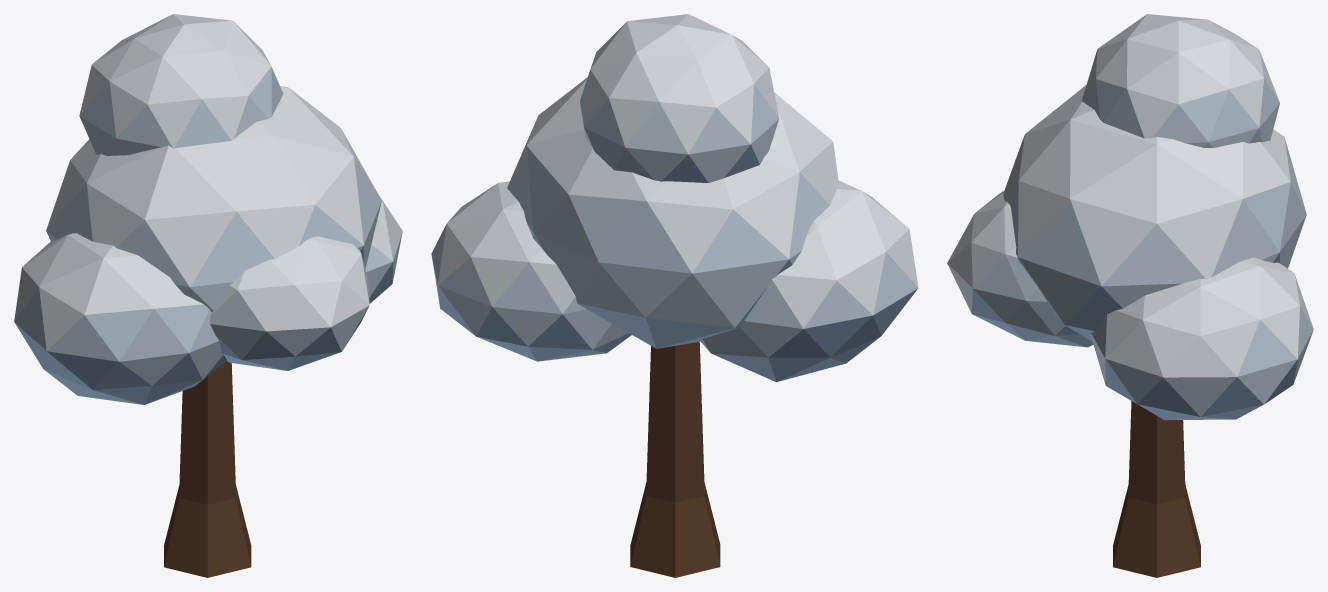
File: Tree_Frosted.glb
3 views of the same model, side by side, from view 1: azimuth 30°, elevation 25°; view 2: azimuth 150°, elevation 25°; view 3: azimuth 270°, elevation 25° (orthographic). The views are drawn at different scales.
Parts seen in each view (by area): view 1: Tree_Frosted; view 2: Tree_Frosted; view 3: Tree_Frosted.
Boxes of the visible parts, x1,y1,x2,y2 form: Tree_Frosted: (14,14,402,577); Tree_Frosted: (431,14,918,577); Tree_Frosted: (947,14,1313,577).
Size of the model in its own units: 6.35 by 8.06 by 5.05.
